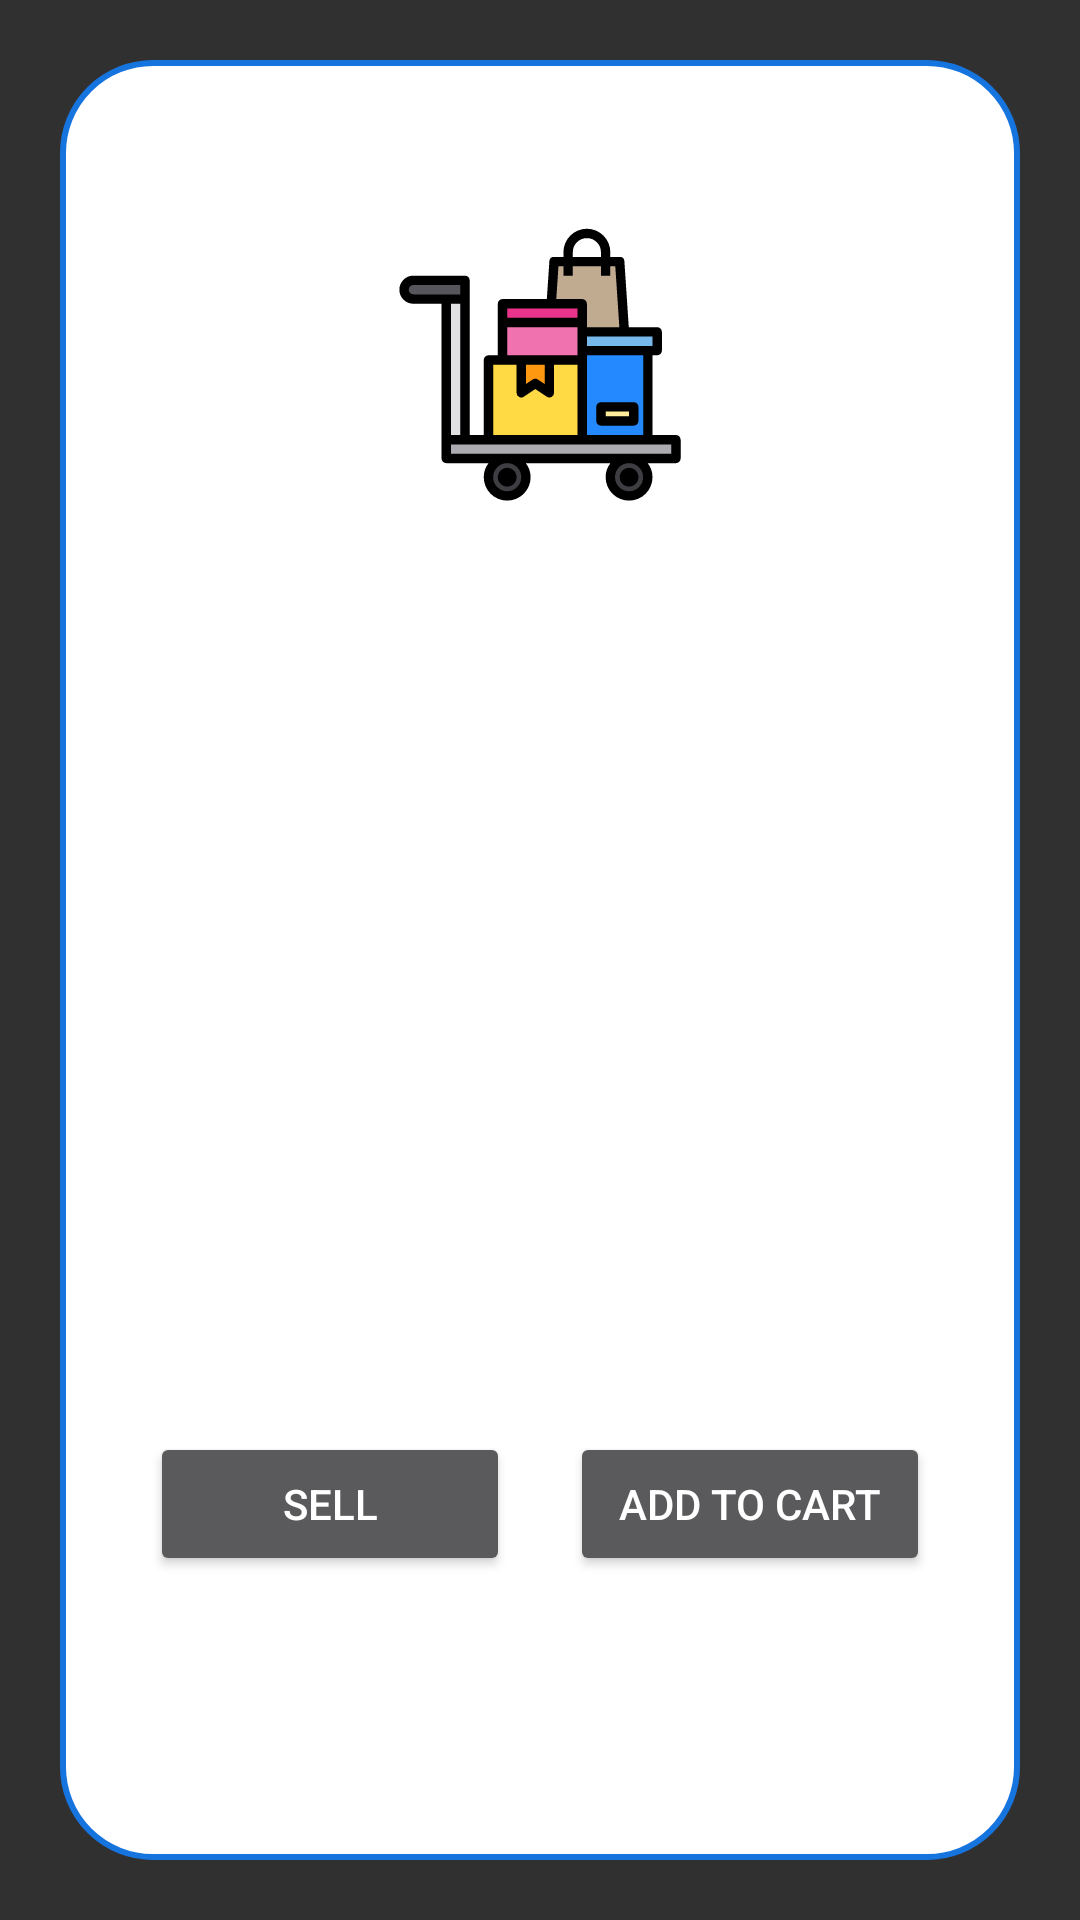

Where to tap for icons on this 1080 x 1920 app screen, as (x=x, y=y):
item catergory: (x=540, y=364)
